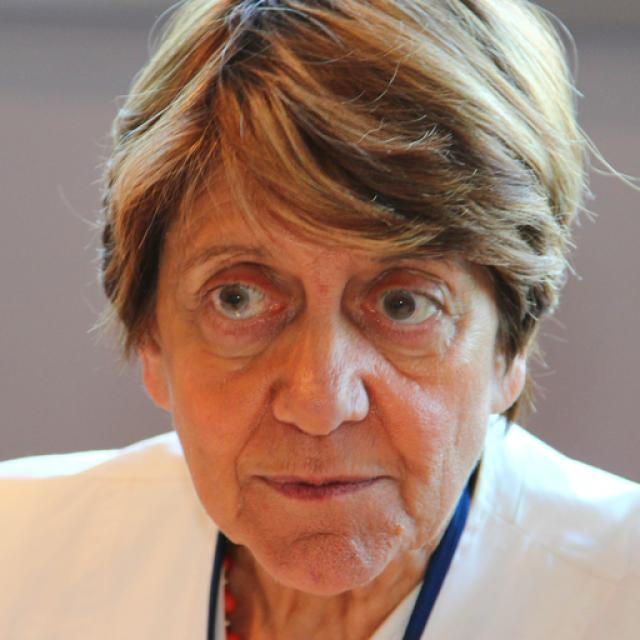Wrinkle: (364, 381, 430, 474), (194, 333, 290, 371), (370, 338, 438, 390), (230, 422, 270, 493), (387, 476, 429, 527)
